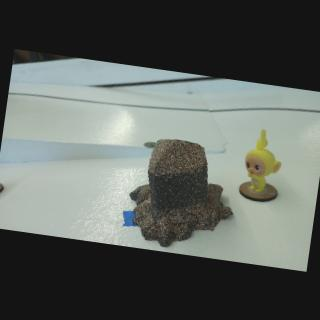teletubby: (244, 129, 280, 192)
